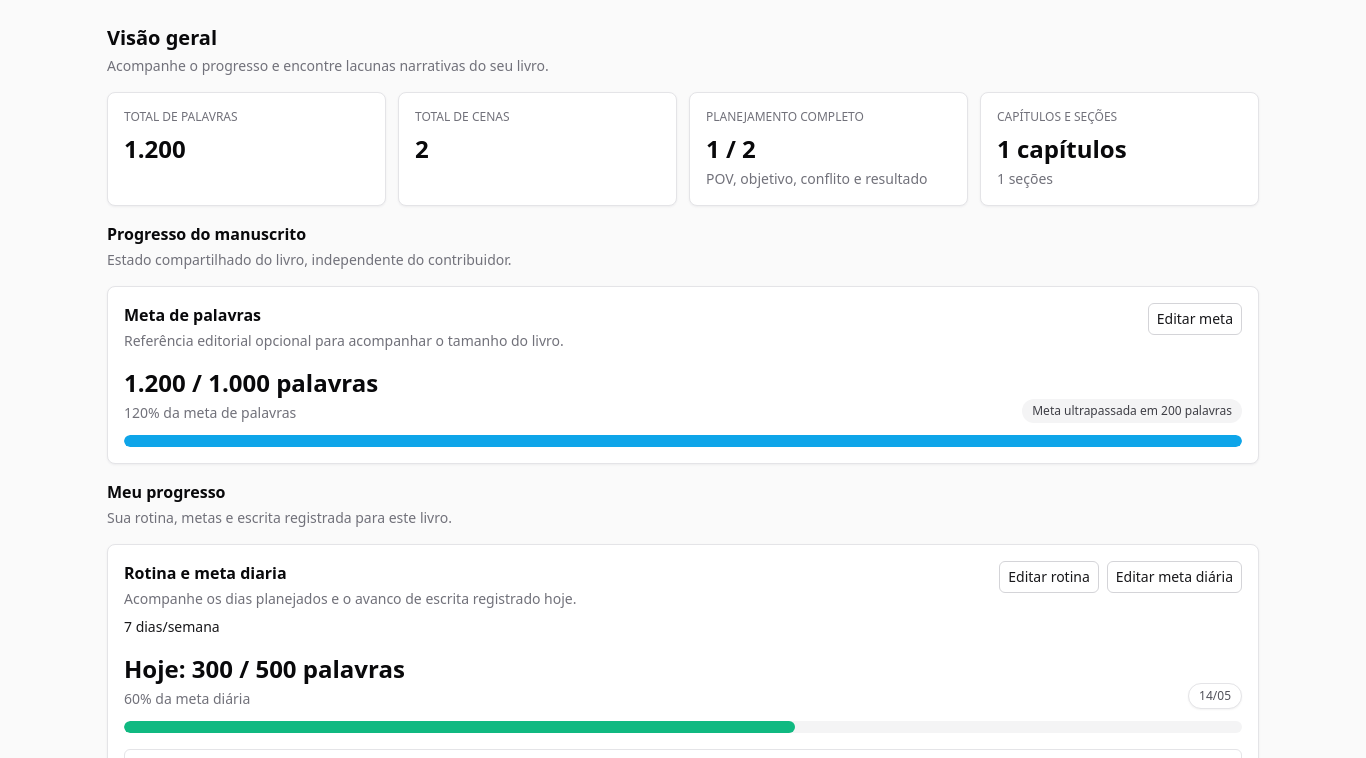
Test: BookDashboard › mostra resumo da rotina e salva predefinicao de dias uteis
Expected: the text "7 dias/semana" is shown, [124,617,220,636]
Click the button "Editar rotina": (1049, 577) [999,561,1099,593]
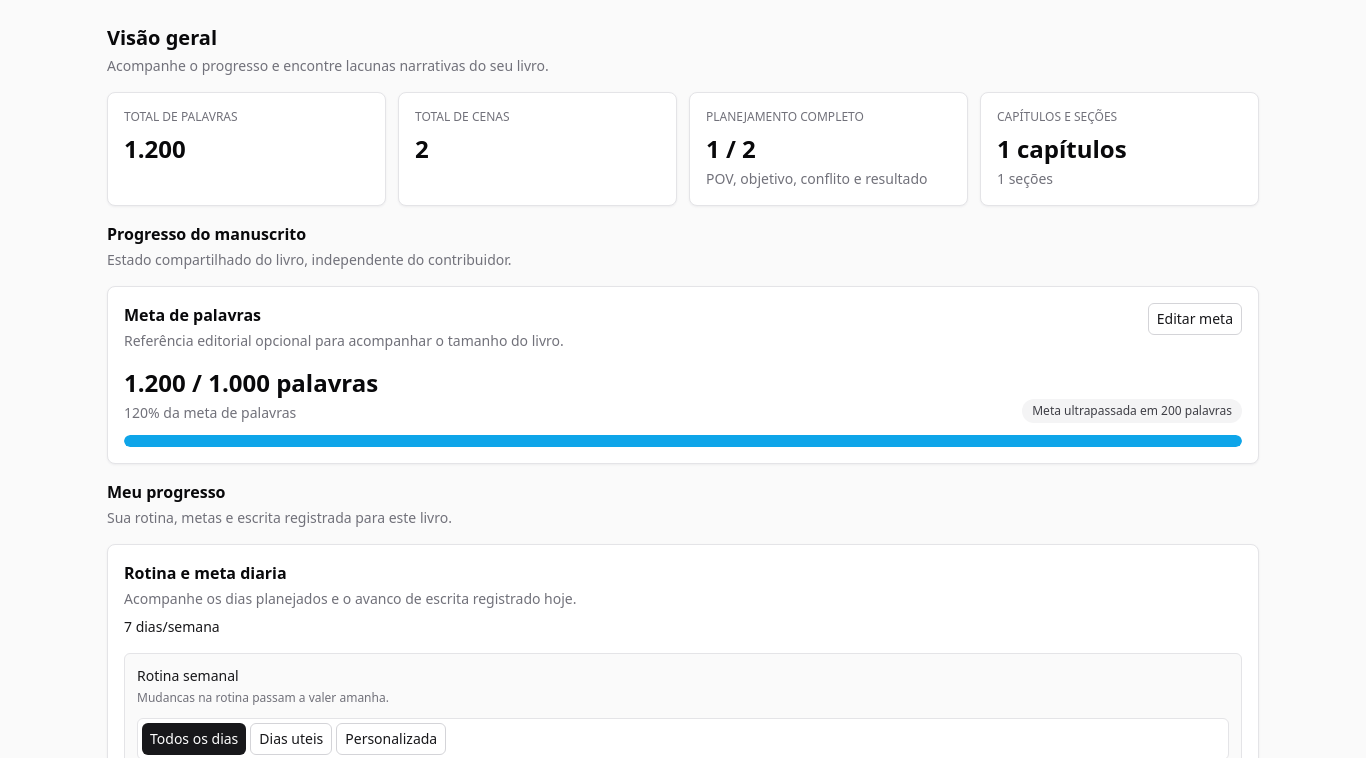
Click the button "Dias uteis": (291, 739) [250,723,332,755]
(page scrolled)
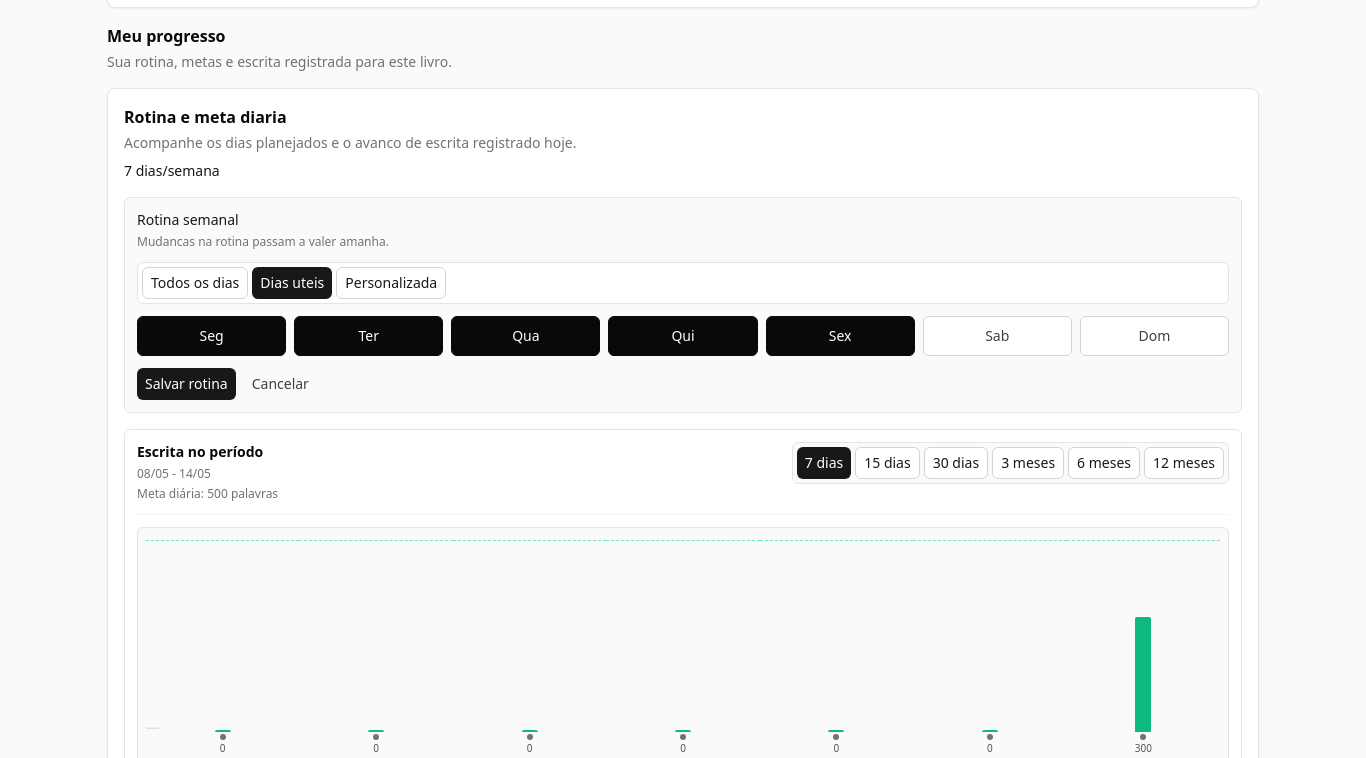
Click the button "Salvar rotina": (186, 384) [137,368,236,400]
(page scrolled)
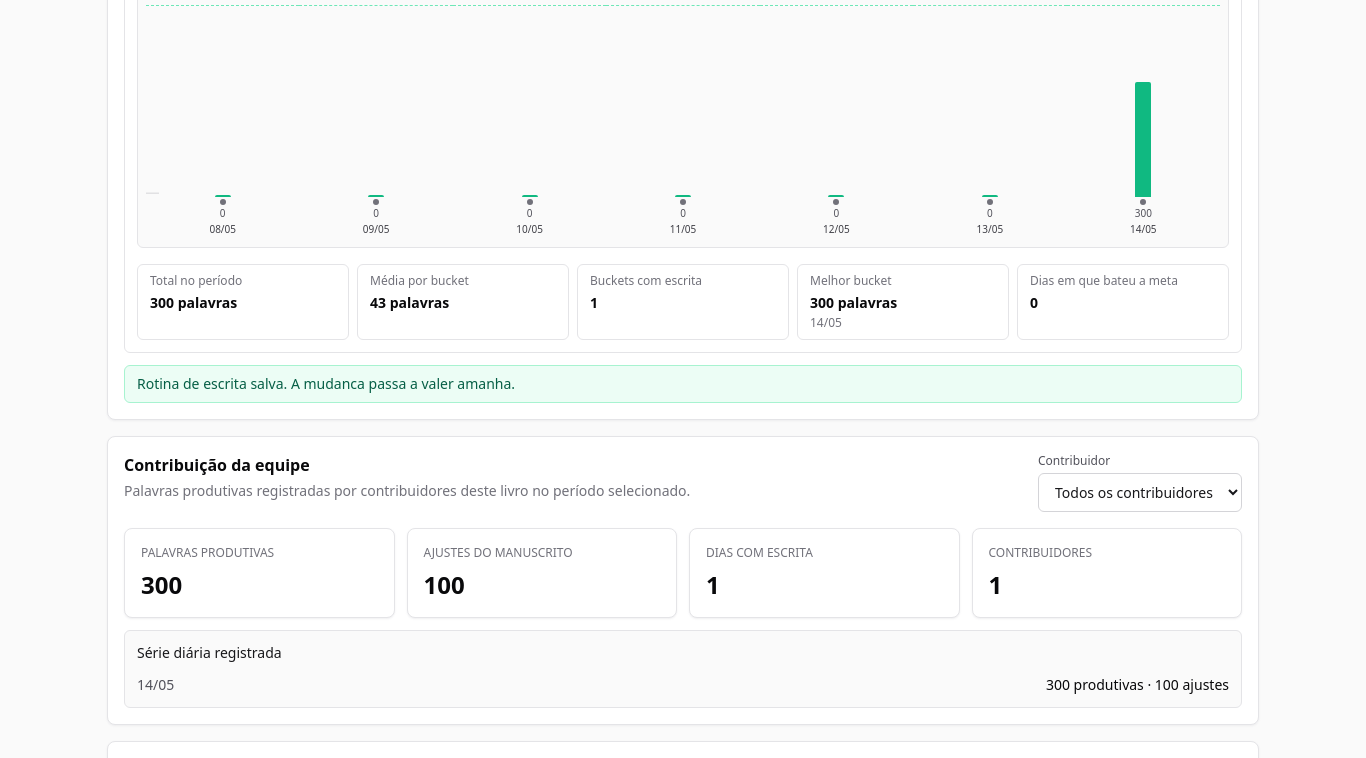
Expected: the text "Rotina de escrita salva. A mudanca passa a valer amanha." is shown, [124,365,1242,403]
